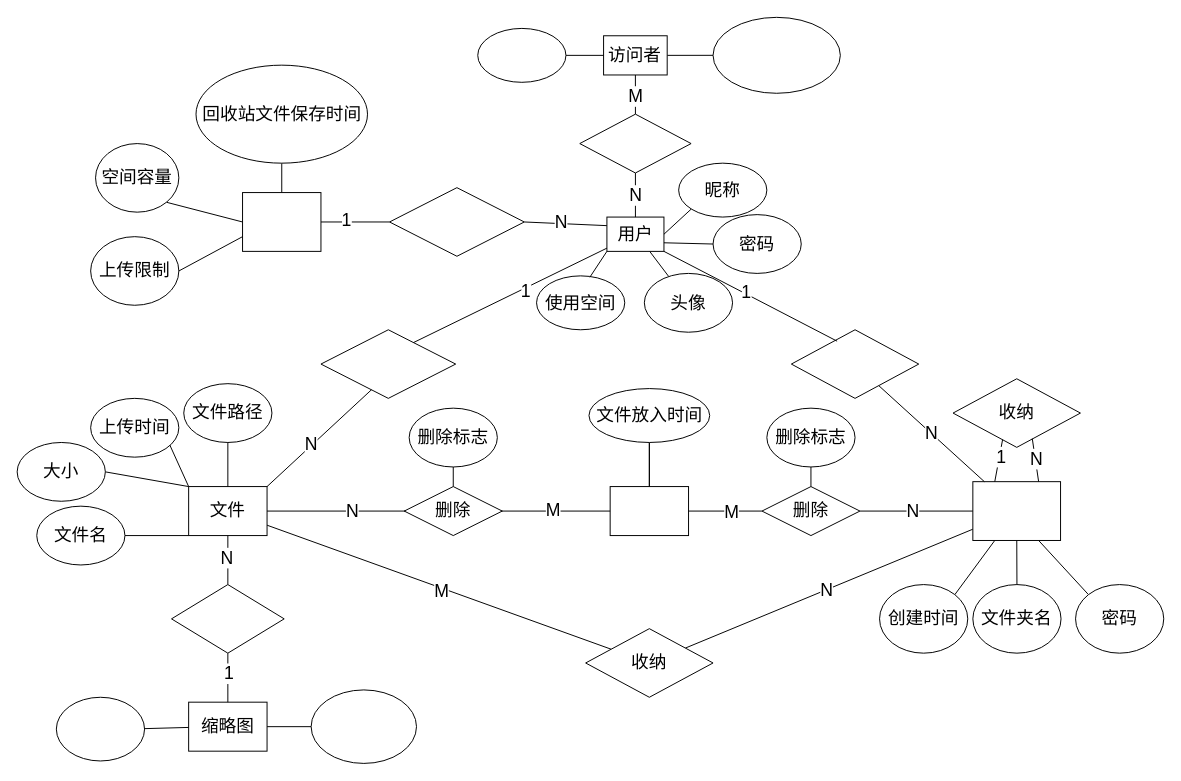
Some shapes in this 1181 by 781 pixel diagram are drawn without their labels. Each missing label, with the centre of its shape:
IP: the point at 521,54
功能操作: the point at 388,363
回收站: the point at 649,511
文件夹: the point at 1016,510
文件格式: the point at 100,728
显示格式: the point at 227,618
浏览器请求头: the point at 776,54
登入: the point at 635,143
等级: the point at 281,221
管理: the point at 854,363
缩略图路径: the point at 363,726
限制: the point at 456,221
